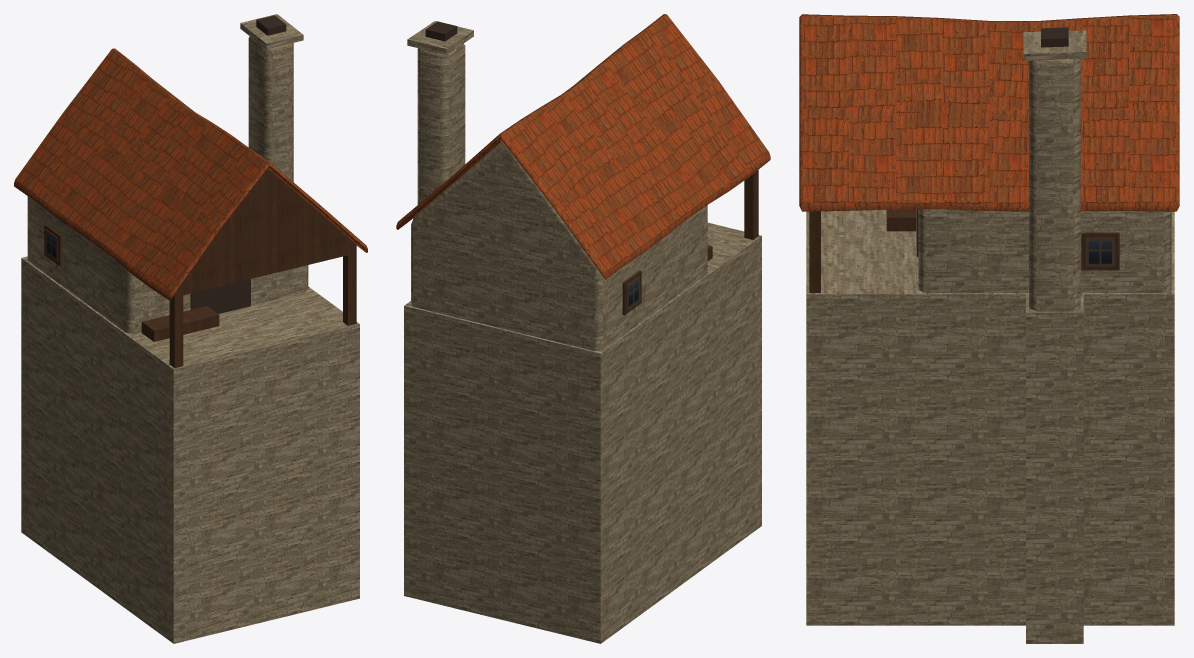
Rendered from workshop.glb.
3 renders of one model, left to right at view 1: azimuth 30°, elevation 25°; view 2: azimuth 150°, elevation 25°; view 3: azimuth 270°, elevation 25°, orthographic. The views are drawn at different scales.
Parts seen in each view (by area): view 1: workshop_export; view 2: workshop_export; view 3: workshop_export.
Part boxes in pixels (<box>): workshop_export: <box>14,14,367,643</box>; workshop_export: <box>396,14,770,643</box>; workshop_export: <box>799,14,1179,643</box>.
Size of the model in its own units: 15.73 by 33.14 by 19.
4 materials, 4 textured.
